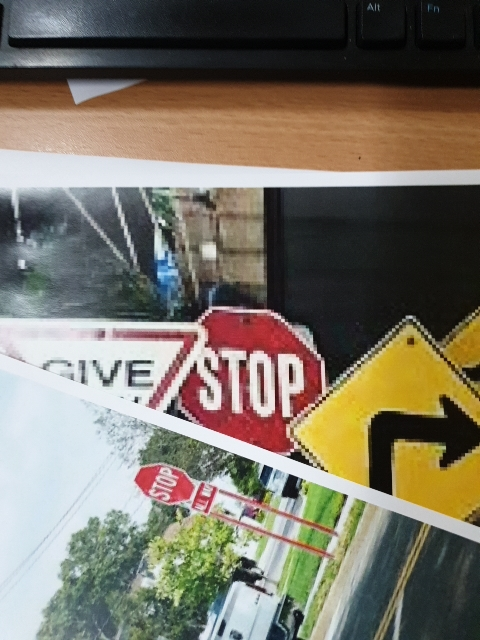right: (296, 323, 480, 541), (9, 298, 188, 433)
stop: (199, 293, 334, 469)
